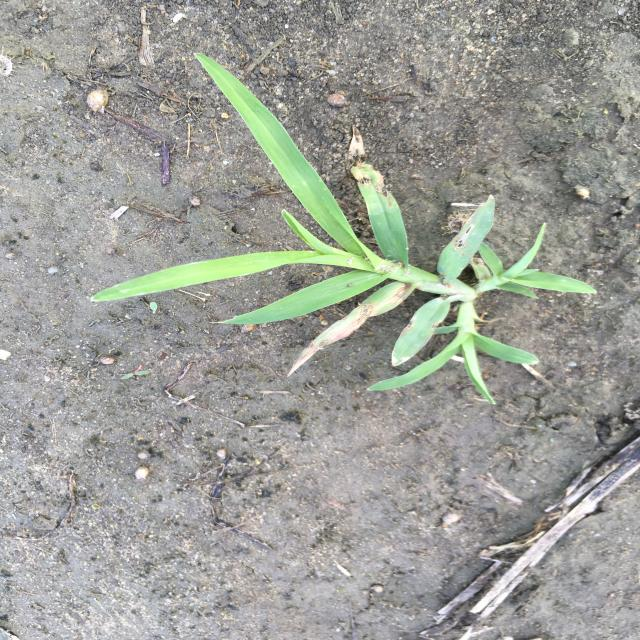Goosegrass: (89, 51, 600, 406)
